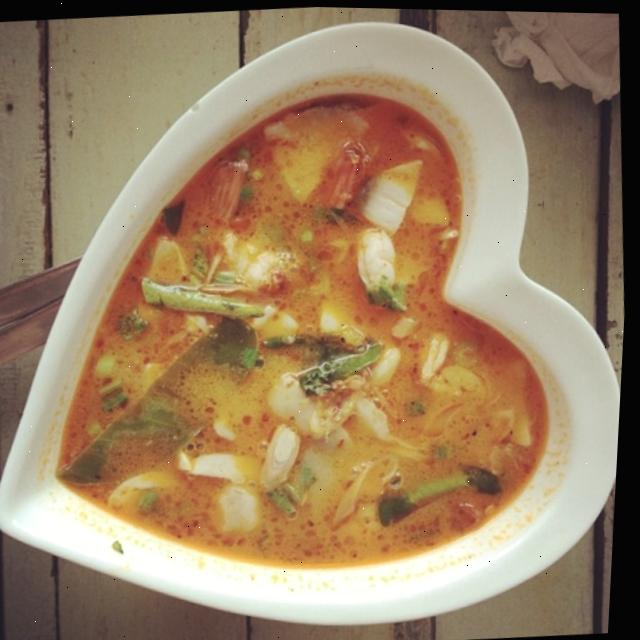汤锅炖物: (83, 101, 557, 606)
